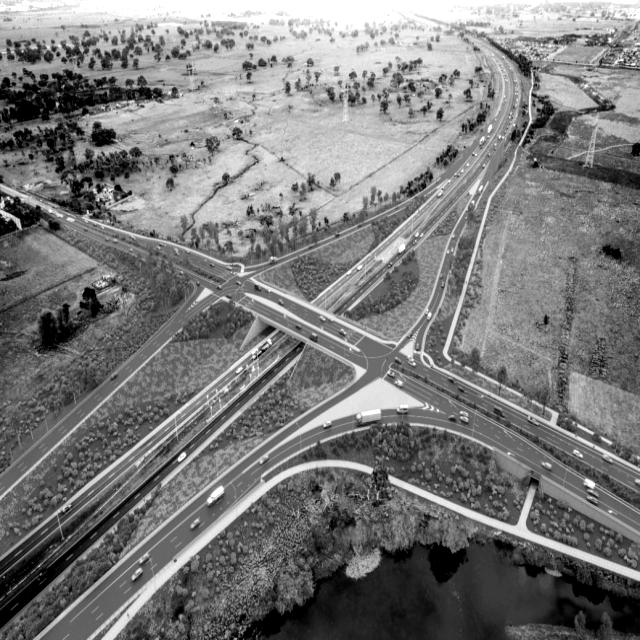cleat: (18, 152, 640, 586)
